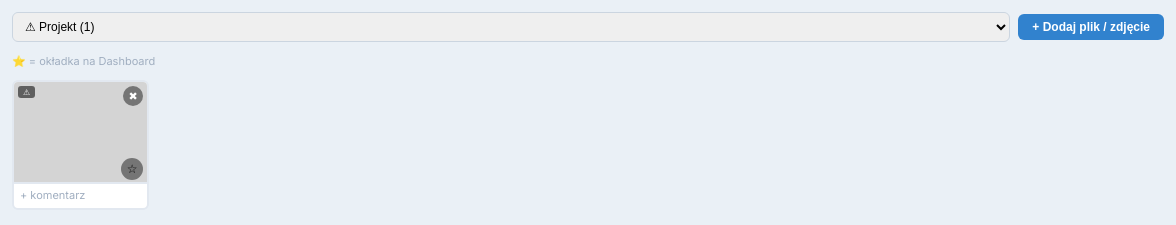
Test case: FilesTab › uses one selected category for filtering and uploading
Expected: the text "assembly.pdf" is not shown
Select "✅ Montaż (1)" in the dropdown named "Folder plików projektu": (511,27) [12,12,1010,42]
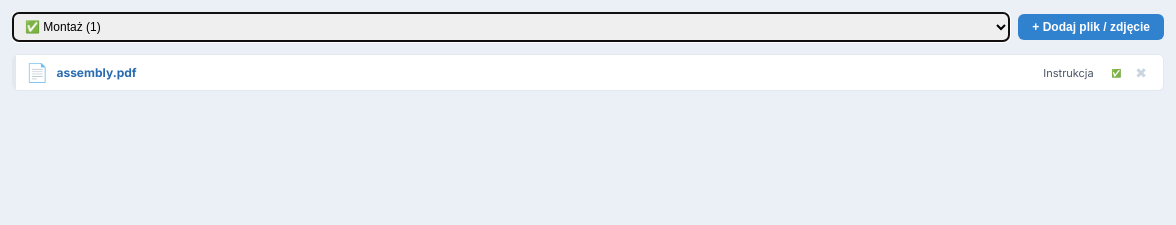
Now the link "assembly.pdf" is shown, box [56,65,137,80]
